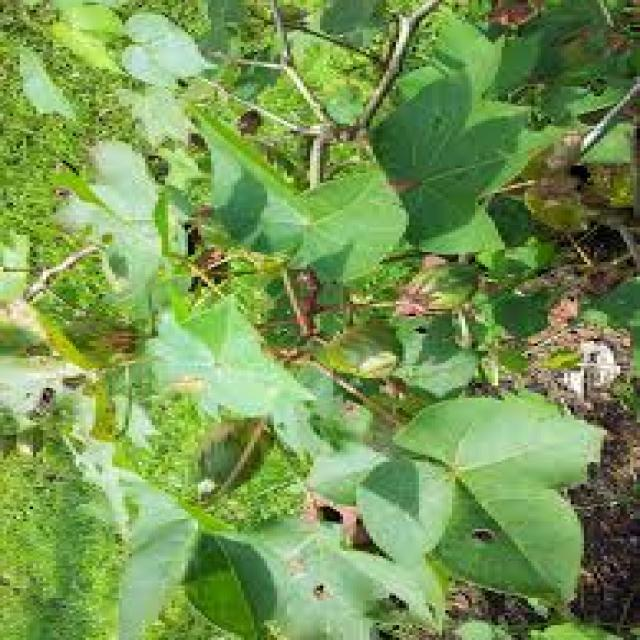Healthy Leaf: (0, 8, 640, 638)
